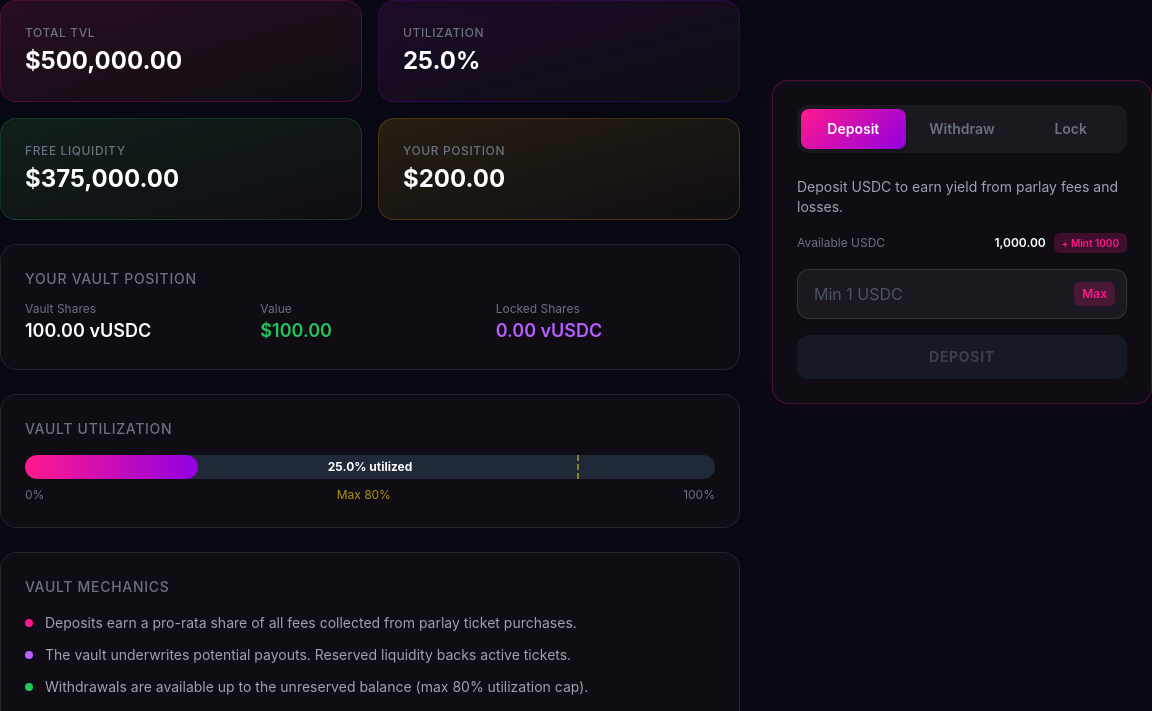
VaultDashboard › withdraw minimum guard › withdraw input strips non-numeric characters
This screenshot has width=1152, height=711.
Click the button "Withdraw": click(962, 129) [910,109,1014,149]
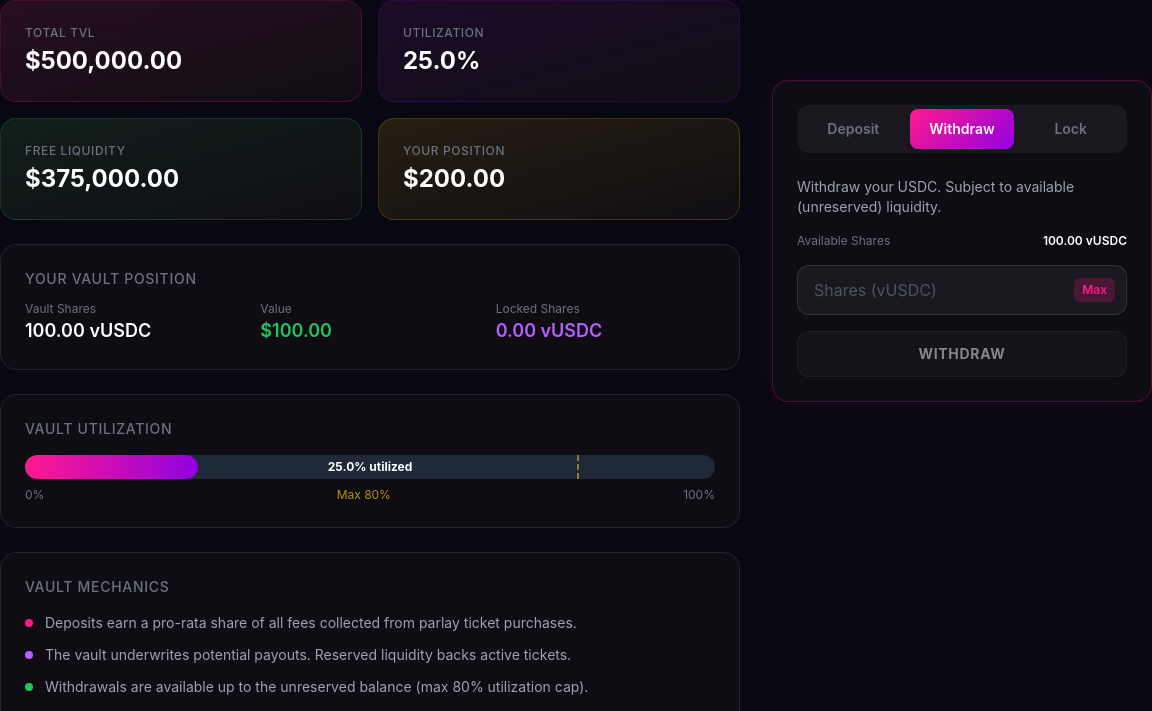
In the field with placeholder "Shares (vUSDC)": (962, 290) [797,265,1127,315], type "+50"
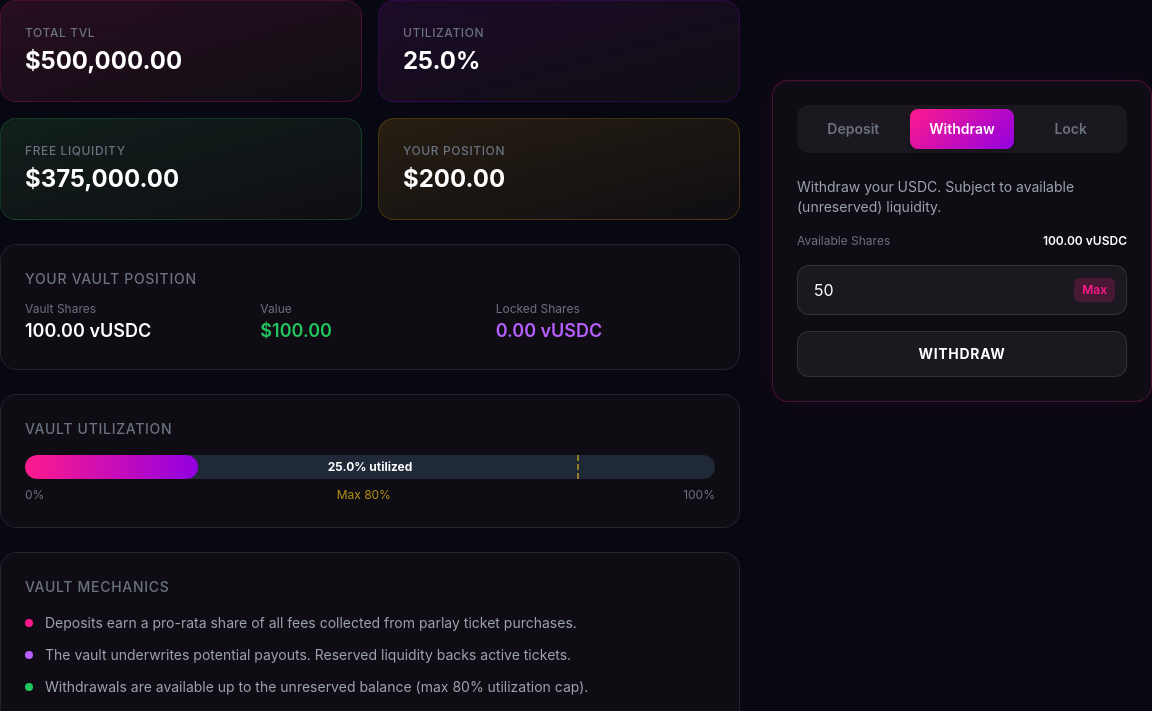
Now the field with placeholder "Shares (vUSDC)" holds "50", box [797,265,1127,315]
